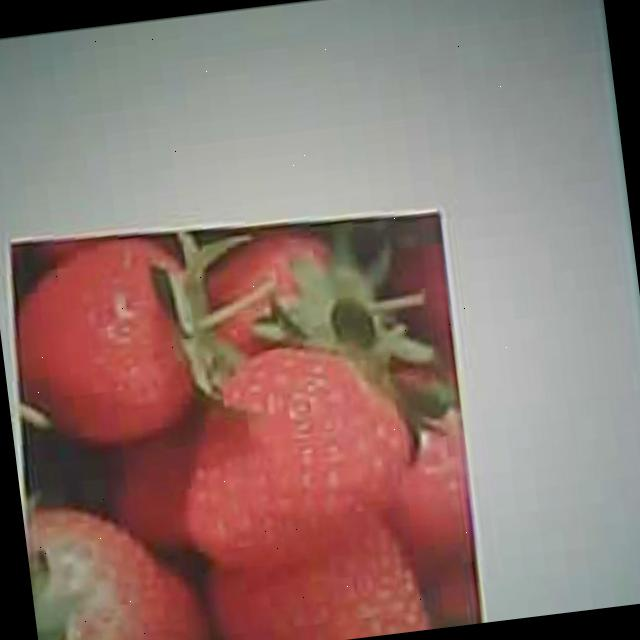strawberry: (166, 326, 422, 560)
